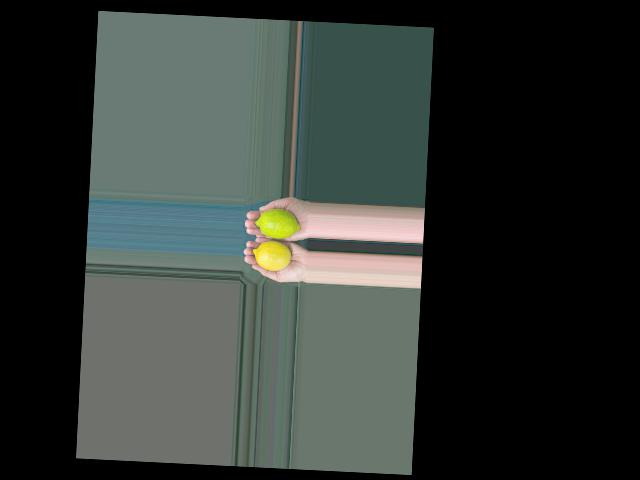lemon: (252, 239, 293, 271)
